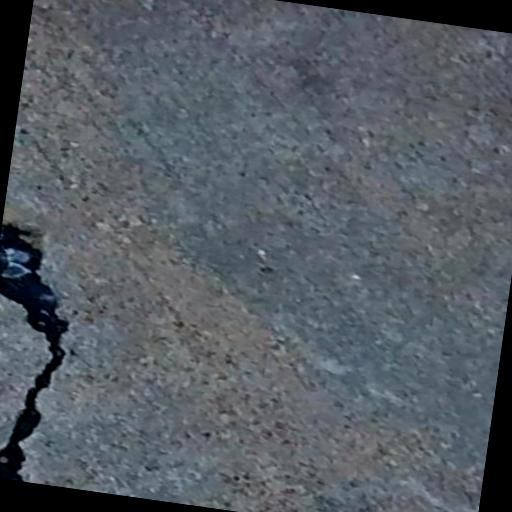spalling: (0, 212, 77, 471)
